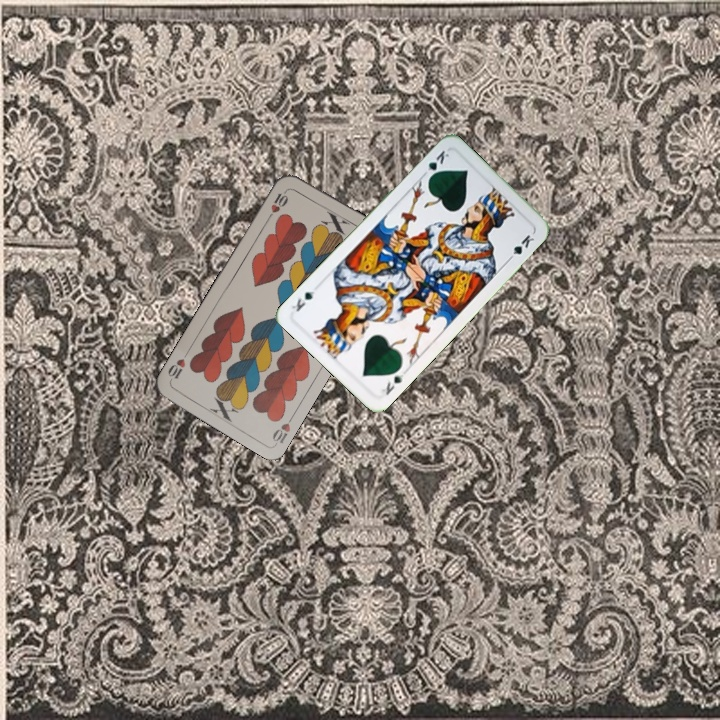GK: (419, 146, 452, 182), (377, 363, 406, 398)
H10: (268, 410, 297, 447), (263, 185, 290, 222)
